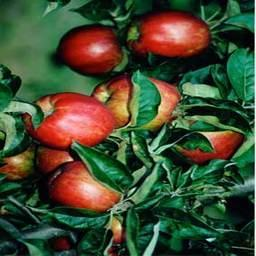apple: (92, 76, 179, 129), (27, 93, 113, 146), (44, 156, 121, 211), (124, 11, 208, 56), (56, 24, 124, 75), (167, 124, 243, 162)
